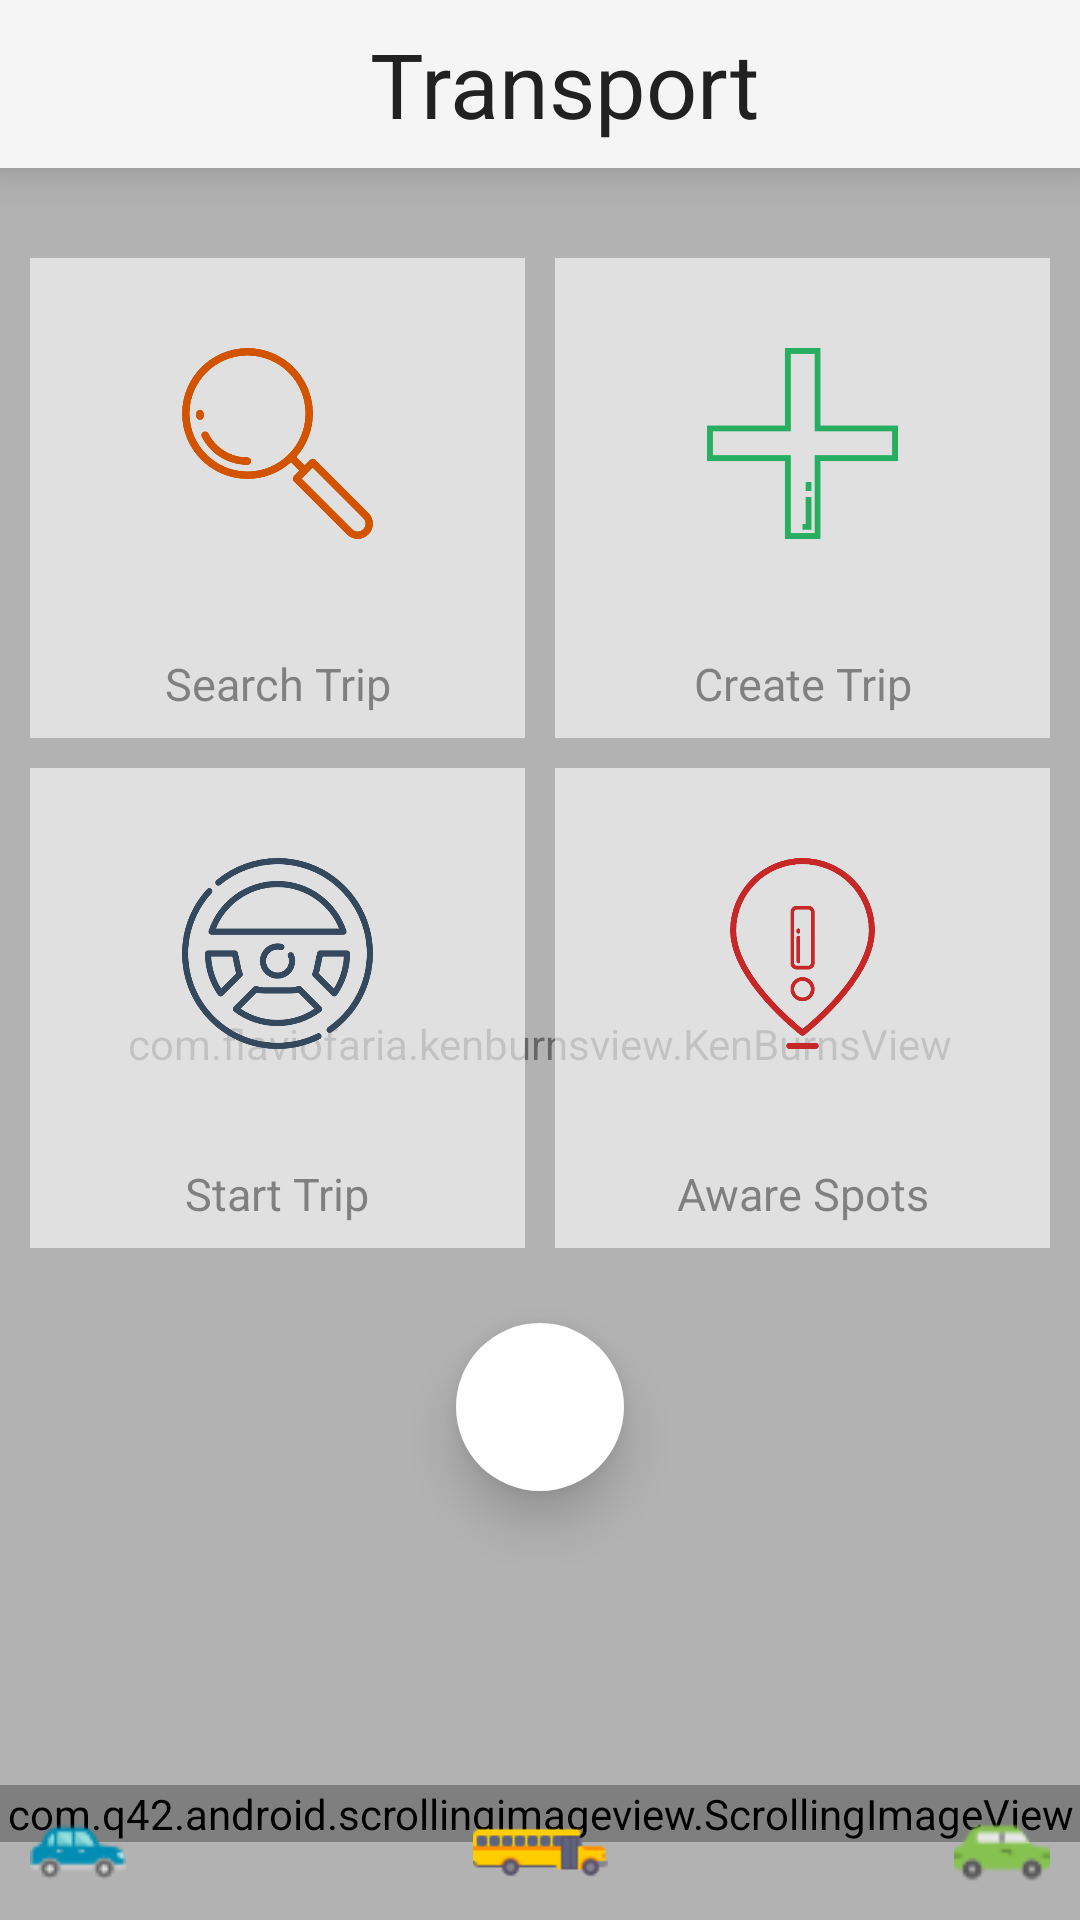

Point at icon controls on the screen. Image size 1080 x 1920, points as point (x, y).
plus: point (802, 443)
